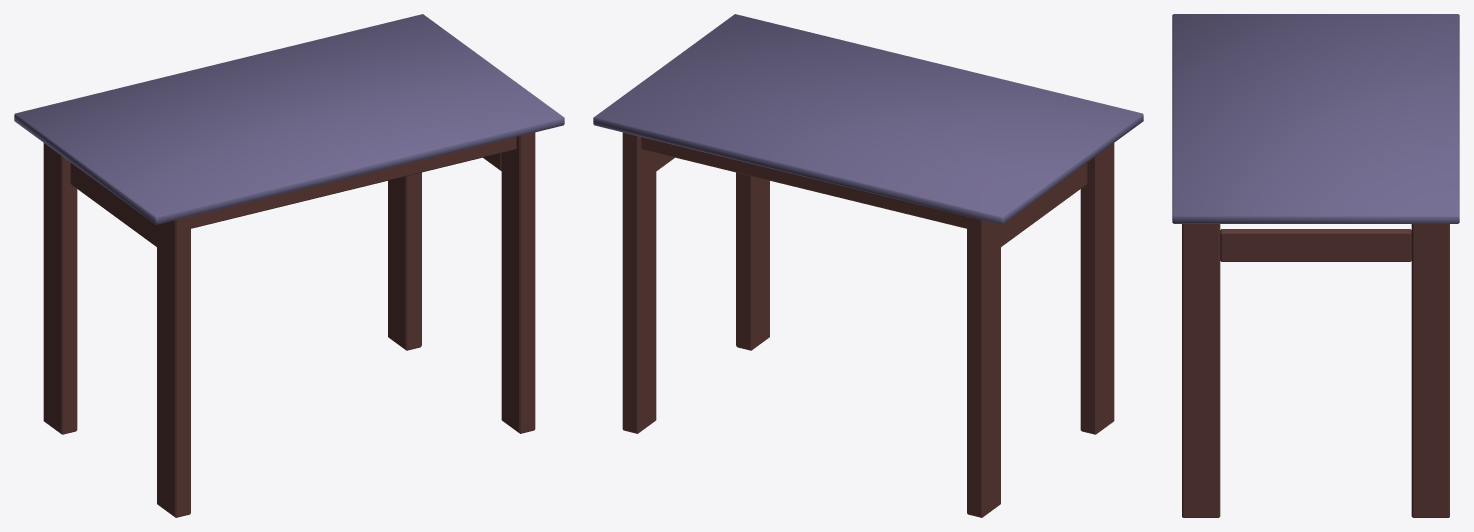
Rendered from table.FBX.
3 views of the same model, side by side, from view 1: azimuth 30°, elevation 25°; view 2: azimuth 150°, elevation 25°; view 3: azimuth 270°, elevation 25° (orthographic).
Parts seen in each view (by area): view 1: ChamferBox014, ChamferBox006, ChamferBox001, ChamferBox011, ChamferBox010, ChamferBox005, ChamferBox007; view 2: ChamferBox014, ChamferBox010, ChamferBox011, ChamferBox001, ChamferBox006, ChamferBox009, ChamferBox007; view 3: ChamferBox014, ChamferBox006, ChamferBox010, ChamferBox008.
Part boxes in pixels (left/top/right/bottom): ChamferBox014: left=14, top=14, right=564, bottom=224; ChamferBox006: left=501, top=132, right=535, bottom=433; ChamferBox001: left=157, top=216, right=190, bottom=517; ChamferBox011: left=43, top=143, right=77, bottom=434; ChamferBox010: left=388, top=172, right=421, bottom=350; ChamferBox005: left=191, top=137, right=516, bottom=228; ChamferBox007: left=70, top=163, right=156, bottom=246; ChamferBox014: left=593, top=14, right=1143, bottom=224; ChamferBox010: left=622, top=132, right=656, bottom=433; ChamferBox011: left=967, top=216, right=1000, bottom=517; ChamferBox001: left=1080, top=143, right=1114, bottom=434; ChamferBox006: left=736, top=172, right=769, bottom=350; ChamferBox009: left=641, top=137, right=966, bottom=228; ChamferBox007: left=1001, top=163, right=1087, bottom=246; ChamferBox014: left=1172, top=14, right=1459, bottom=223; ChamferBox006: left=1182, top=224, right=1220, bottom=517; ChamferBox010: left=1411, top=224, right=1449, bottom=517; ChamferBox008: left=1220, top=229, right=1411, bottom=261.
Bounding box in the file's own units: 1000 × 725 × 600.
